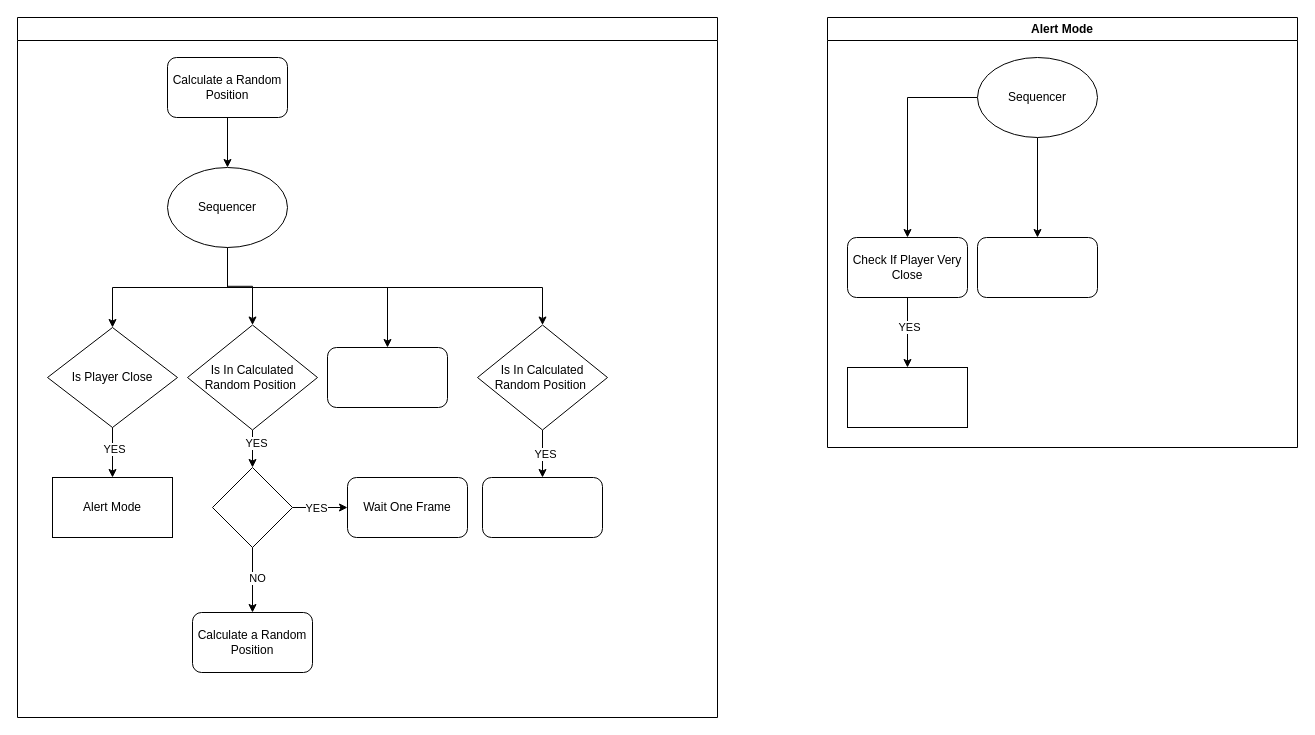
The diagram is 1315 pixels wide and 735 high, and some of its shapes have lost their labels. The box of each missing label's shape, as (x1, y1, x2, y2) in pixels:
Begin To Wait: (482, 476, 602, 538)
General Behavior: (16, 16, 718, 718)
Is Waiting: (212, 466, 292, 548)
One Step To Random Position: (326, 346, 448, 408)
Run Mode: (846, 366, 968, 428)
